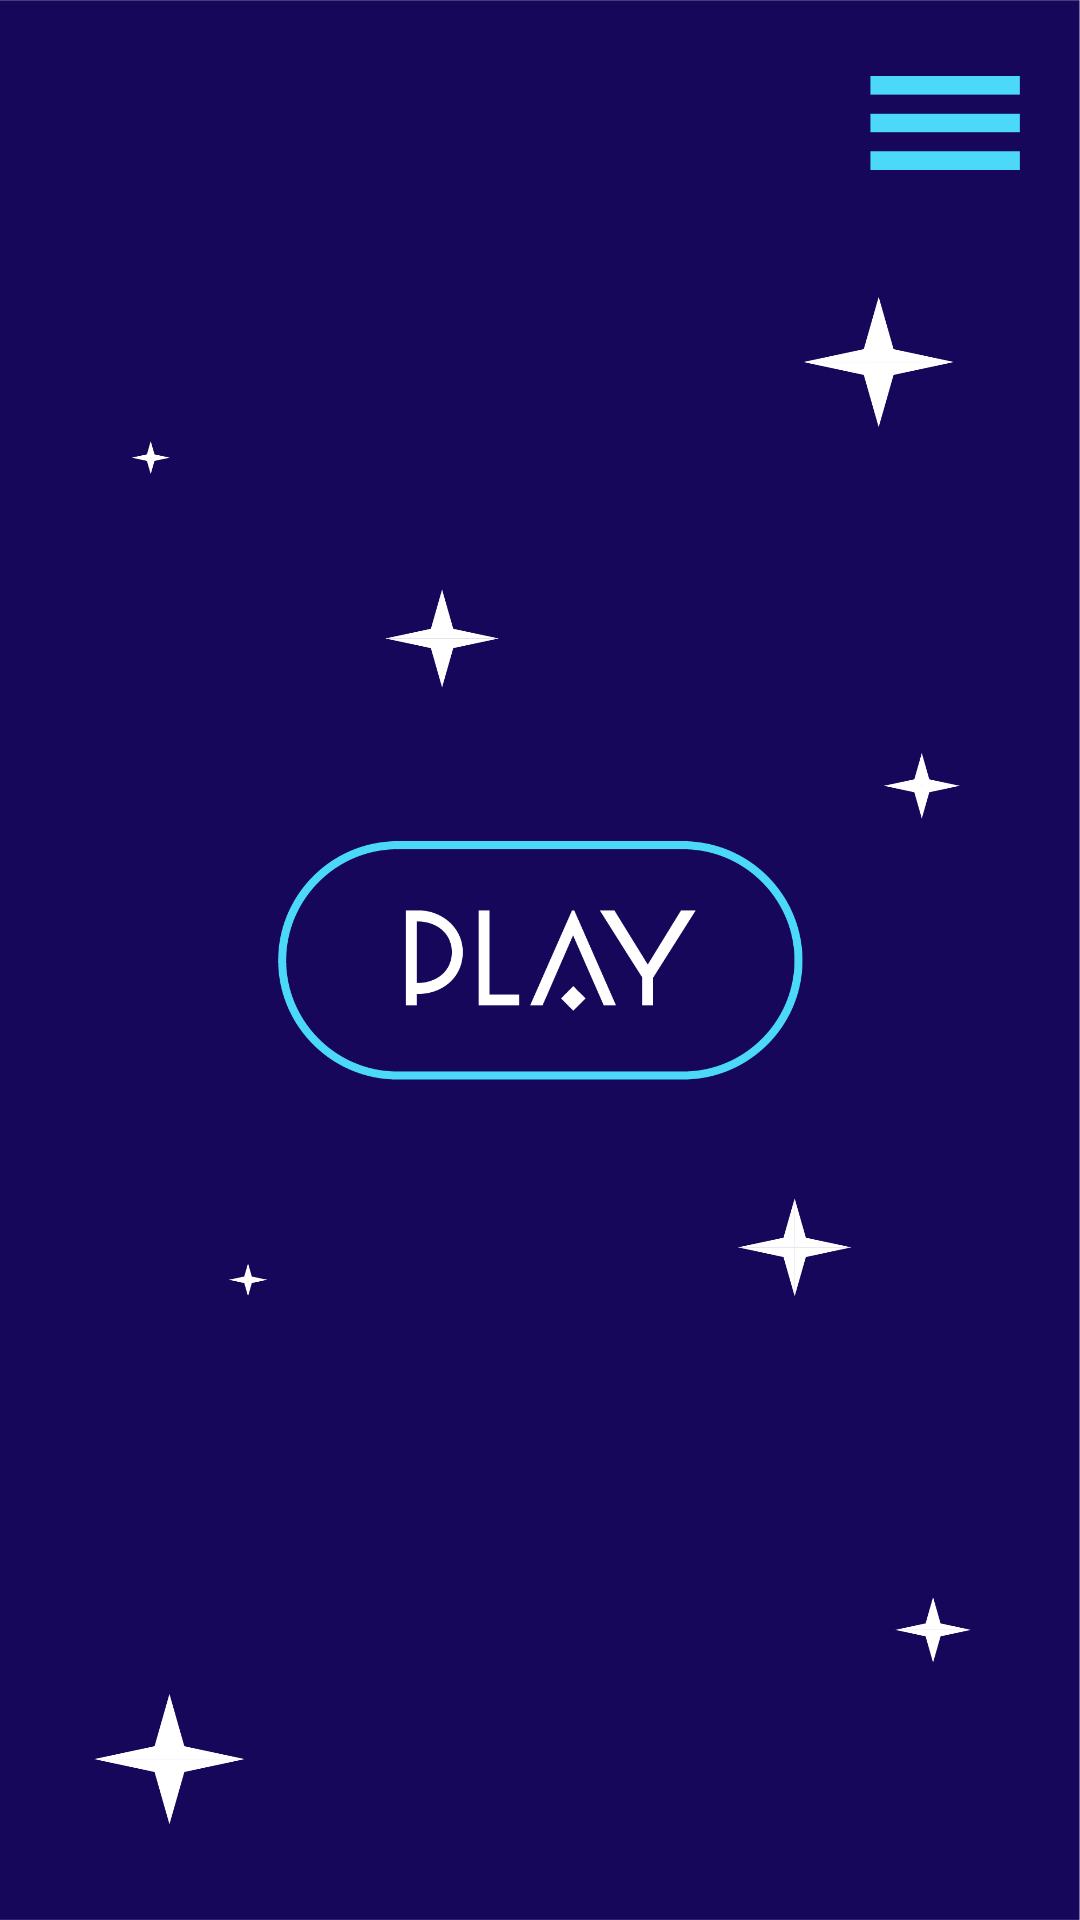

Screen size 1080w x 1920h. Icon name, then its box in pixels as (x1, y1, x2, y2):
hamburger: (870, 76, 1020, 170)
